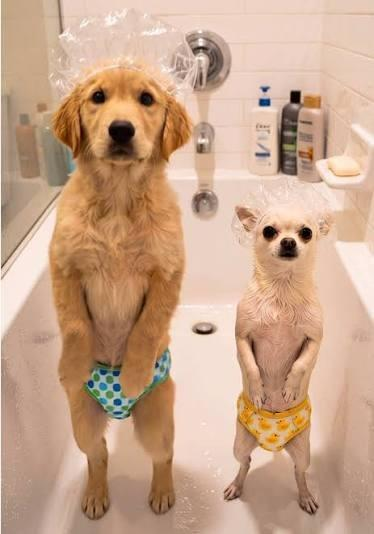adult_dog: (223, 200, 332, 514)
puppy-dog: (46, 66, 193, 523)
